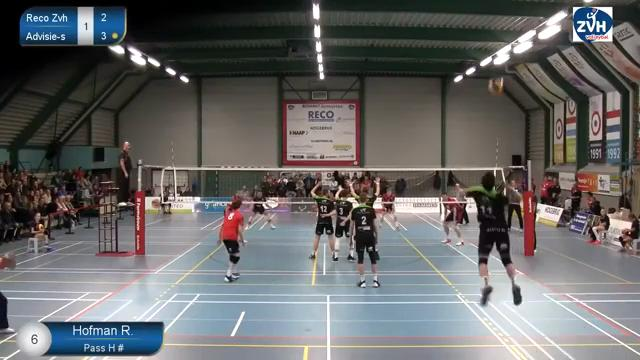Player: (350, 193, 379, 287), (309, 181, 336, 260), (218, 199, 243, 282), (333, 187, 352, 260), (245, 187, 274, 229), (442, 194, 463, 245), (346, 178, 379, 207), (381, 187, 398, 230)
Serve: (449, 166, 528, 315)
ball: (488, 76, 503, 97)
